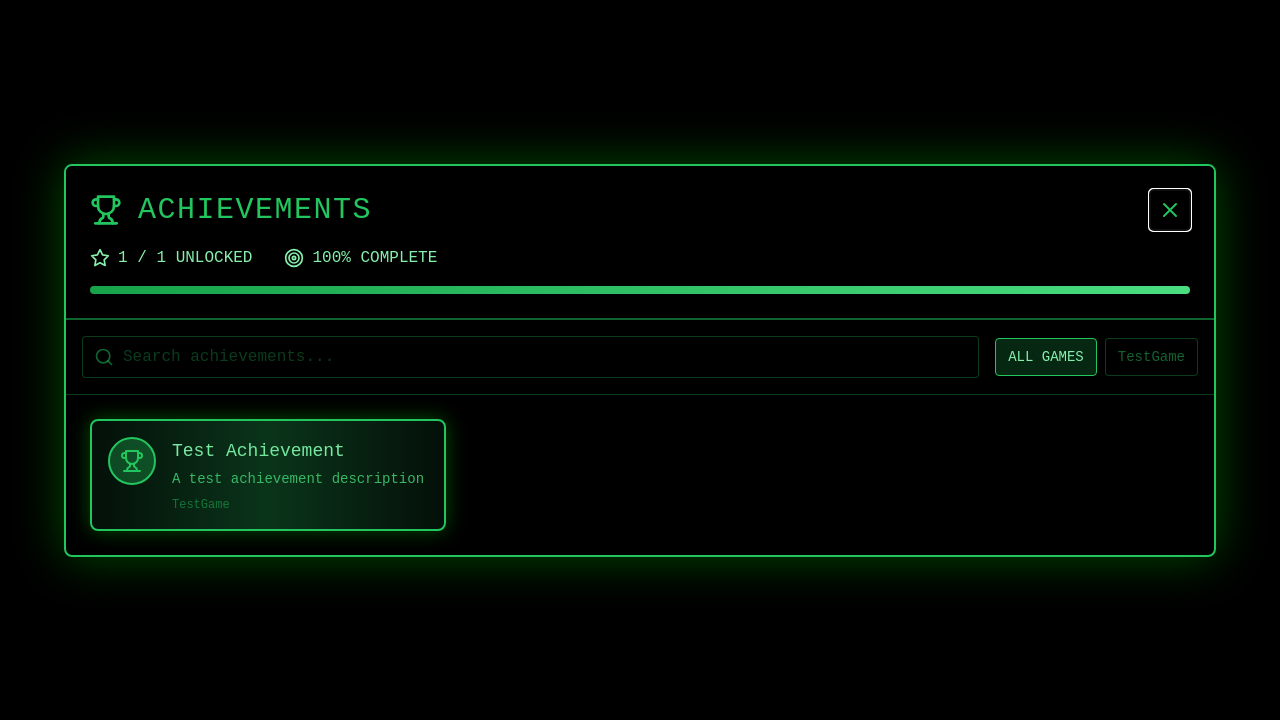
Test case: AchievementDisplay › Search Functionality › shows no achievements message when search has no results
In the field with placeholder "Search achievements...": (531, 356) [82, 336, 979, 378], type "nonexistent"
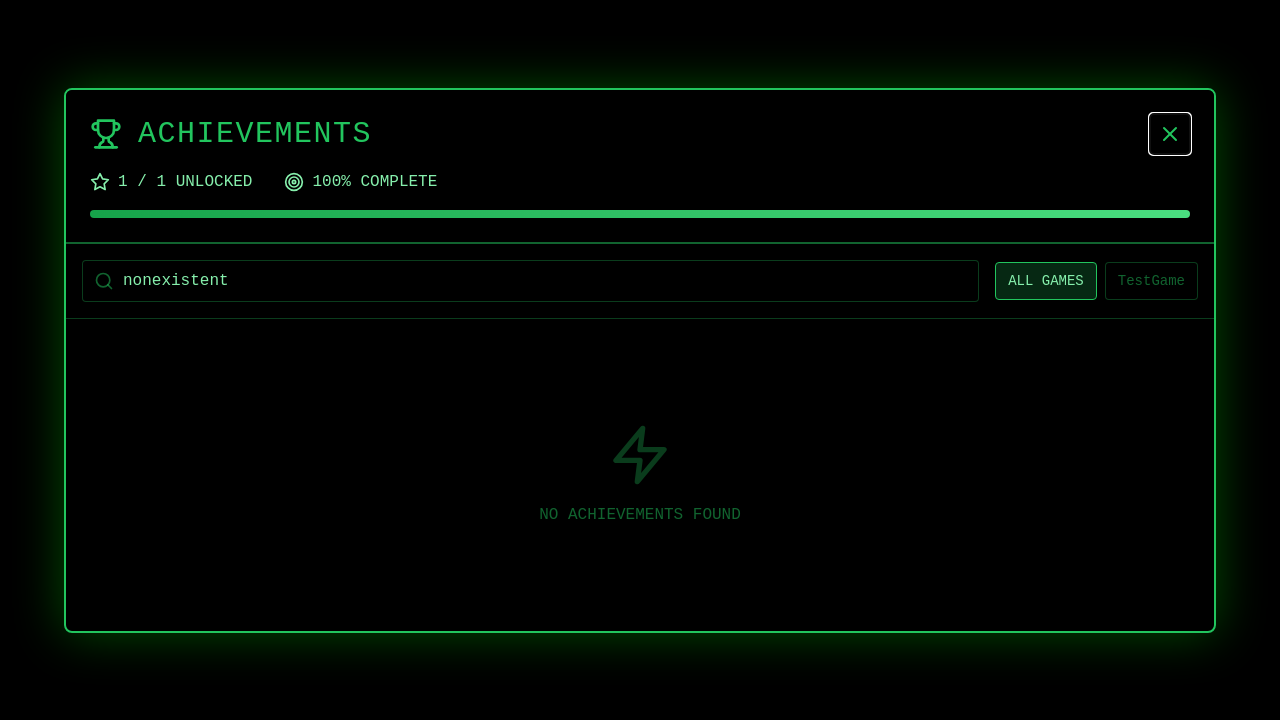
Result: the text "NO ACHIEVEMENTS FOUND" is shown at [539, 506, 741, 524]
